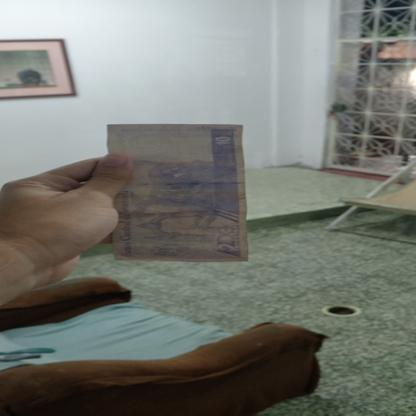ten-back-vef: (106, 124, 248, 264)
